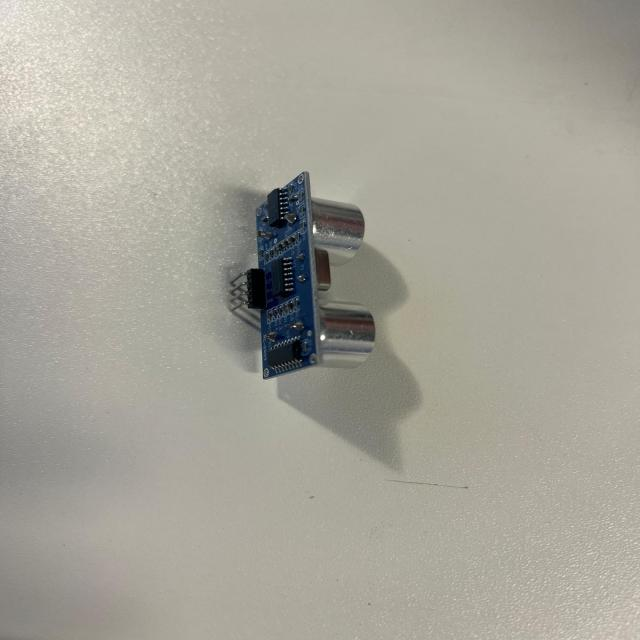UltrasoneSensor: (200, 156, 392, 396)
